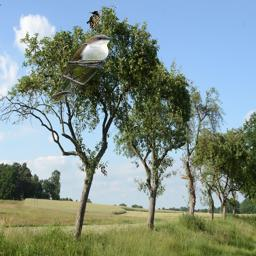Cuckoo: (49, 33, 113, 102)
Woodpecker: (86, 11, 100, 29)
